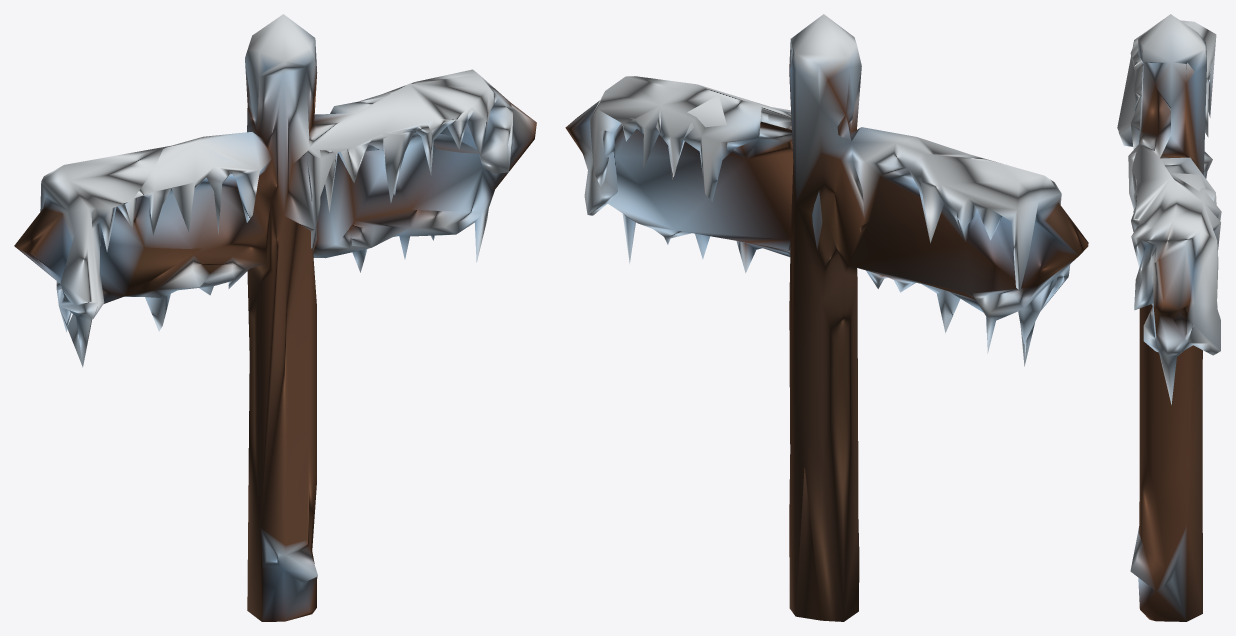
Rendered from gen3d-frozen-signpost-lod1.glb.
3 views of the same model, side by side, from view 1: azimuth 30°, elevation 25°; view 2: azimuth 150°, elevation 25°; view 3: azimuth 270°, elevation 25° (orthographic).
Visible parts, largest first — view 1: part_0; view 2: part_0; view 3: part_0.
Part boxes in pixels (x1,y1,x2,y2): part_0: (14,14,536,621); part_0: (565,14,1088,621); part_0: (1117,14,1221,621).
Size of the model in its own units: 0.9056 by 0.9997 by 0.1585.
